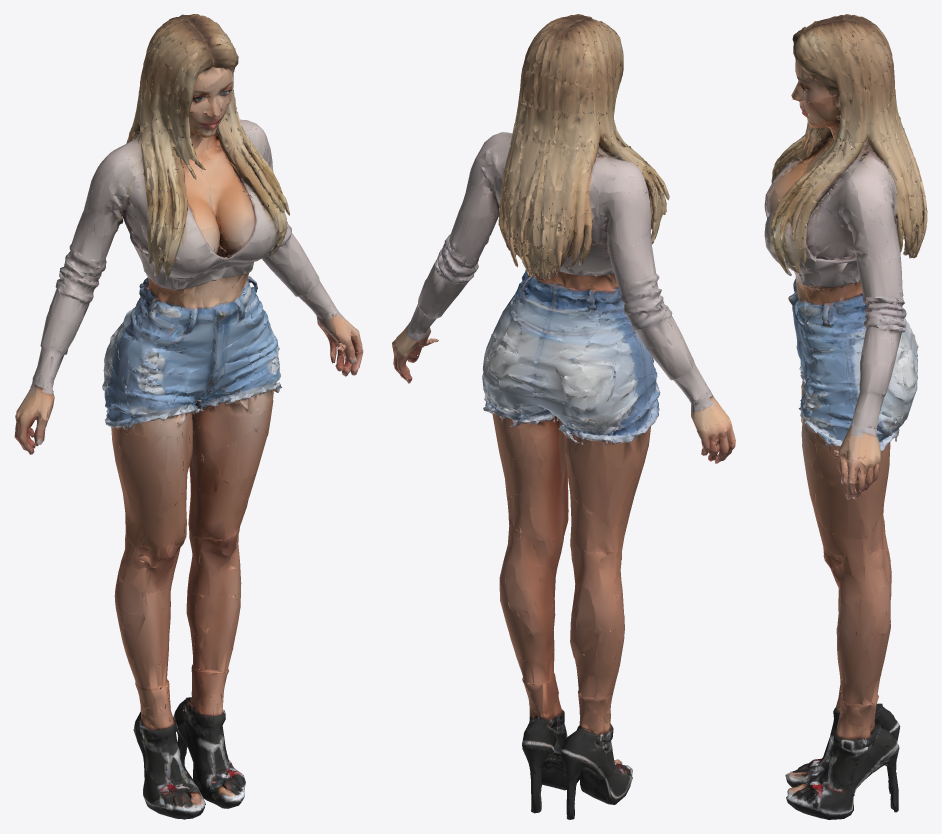
Rendered from victoria_for_mixamo.fbx.
3 views of the same model, side by side, from view 1: azimuth 30°, elevation 25°; view 2: azimuth 150°, elevation 25°; view 3: azimuth 270°, elevation 25° (orthographic).
Parts seen in each view (by area): view 1: character; view 2: character; view 3: character.
Part boxes in pixels (<box>): character: <box>14,14,363,819</box>; character: <box>392,14,735,819</box>; character: <box>764,14,927,819</box>.
Size of the model in its own units: 87.69 by 191 by 35.79.
Materials: 1 (1 with a texture image).
